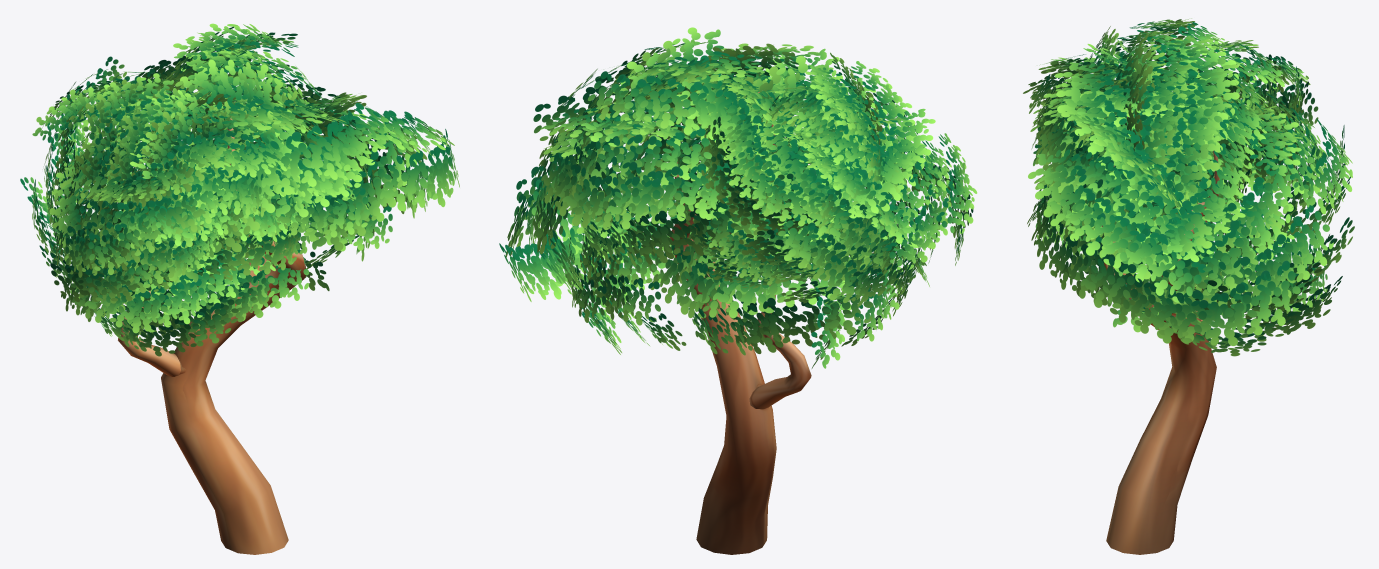
Rendered from broadleaf-tree.glb.
The picture shows the model from 3 angles, left to right: view 1: azimuth 30°, elevation 25°; view 2: azimuth 150°, elevation 25°; view 3: azimuth 270°, elevation 25°; orthographic projection. The views are drawn at different scales.
Visible parts, largest first — view 1: unnamed (×3); view 2: unnamed (×3); view 3: unnamed (×3).
Part boxes in pixels (x1,y1,x2,y2): unnamed (×3): (20, 23, 459, 554); unnamed (×3): (499, 27, 977, 554); unnamed (×3): (1023, 18, 1354, 554).
Size of the model in its own units: 2.83 by 3.23 by 2.09.
Materials: 2 (2 with a texture image).
